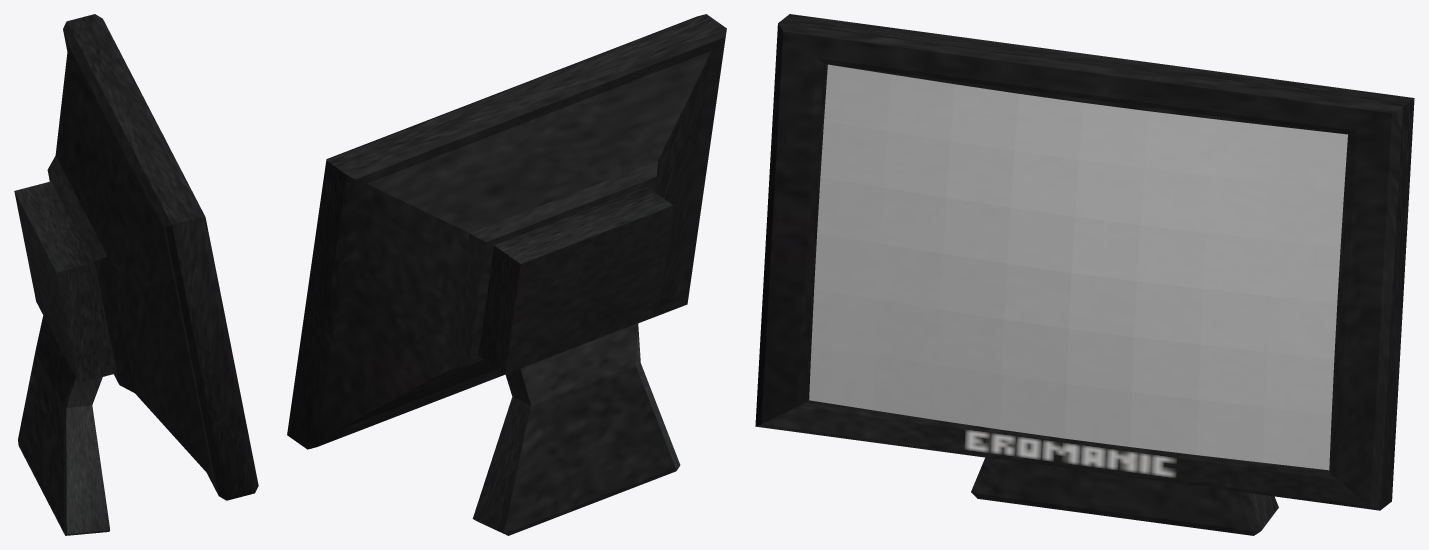
Rendered from Monitor_Menu.fbx.
3 renders of one model, left to right at view 1: azimuth 30°, elevation 25°; view 2: azimuth 150°, elevation 25°; view 3: azimuth 270°, elevation 25°, orthographic. The views are drawn at different scales.
Visible parts, largest first — view 1: Monitor; view 2: Monitor; view 3: Monitor.
Part boxes in pixels (x1,y1,x2,y2): Monitor: (14,14,258,535); Monitor: (287,14,726,535); Monitor: (755,14,1414,535).
Bounding box in the file's own units: 76.09 × 113 × 139.
1 material, 1 textured.
